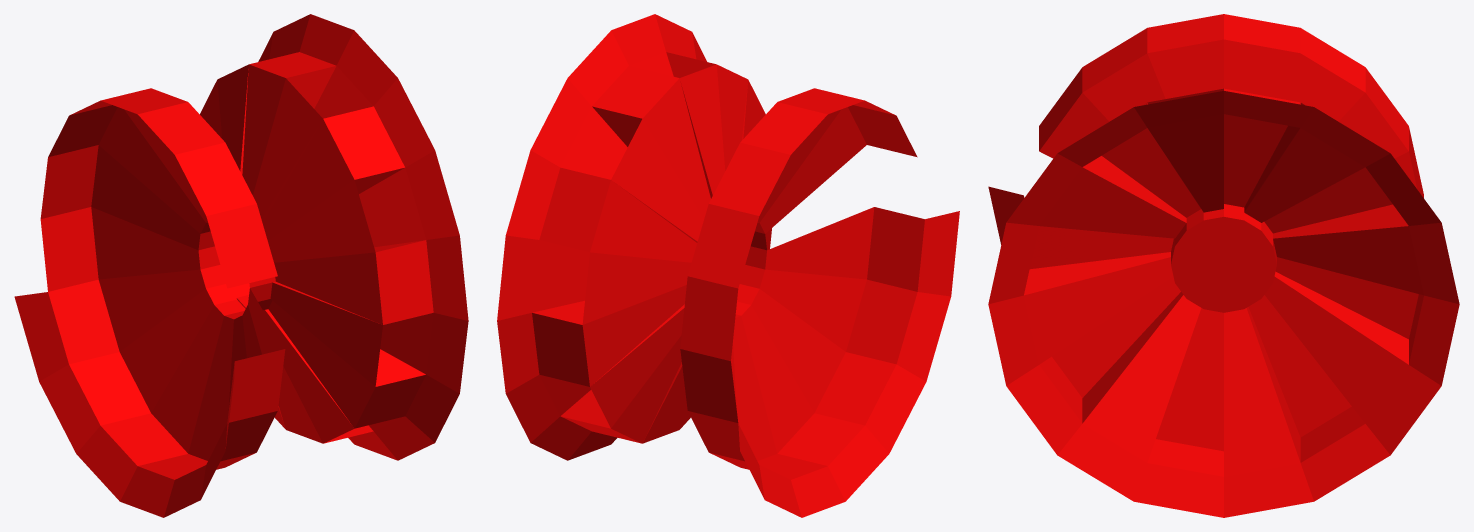
File: rightTireFrame.glb
The picture shows the model from 3 angles, left to right: view 1: azimuth 30°, elevation 25°; view 2: azimuth 150°, elevation 25°; view 3: azimuth 270°, elevation 25°; orthographic projection. The views are drawn at different scales.
Parts seen in each view (by area): view 1: rightTireFrame_Cube.008; view 2: rightTireFrame_Cube.008; view 3: rightTireFrame_Cube.008.
Boxes of the visible parts, x1,y1,x2,y2 form: rightTireFrame_Cube.008: (14,14,468,517); rightTireFrame_Cube.008: (497,14,959,517); rightTireFrame_Cube.008: (988,14,1459,517).
Bounding box in the file's own units: 0.3232 × 0.546 × 0.546.
1 material, 1 textured.
